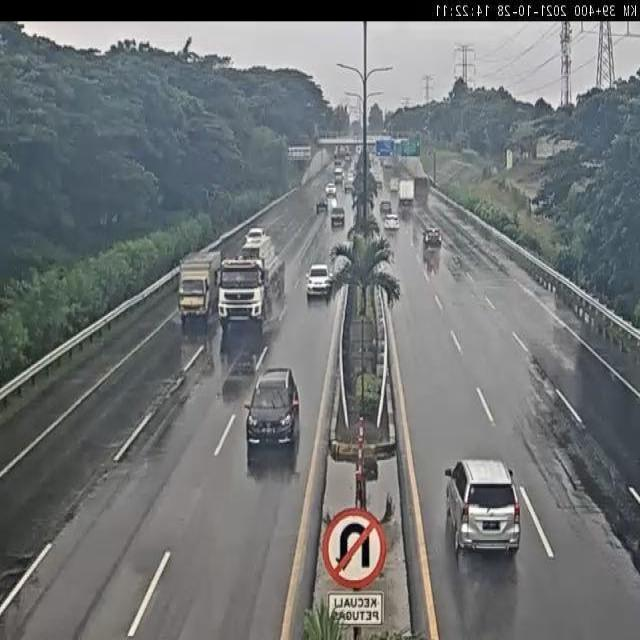Car: (442, 456, 524, 558), (245, 366, 302, 468), (305, 262, 333, 298), (242, 226, 268, 244), (424, 226, 442, 246), (384, 212, 401, 230), (316, 194, 328, 211), (379, 200, 392, 215), (325, 182, 336, 197), (345, 180, 354, 194), (346, 172, 355, 182)
Truck: (218, 232, 286, 332), (177, 245, 224, 320), (398, 178, 415, 210), (413, 173, 429, 204), (330, 205, 345, 228), (389, 177, 400, 194)
